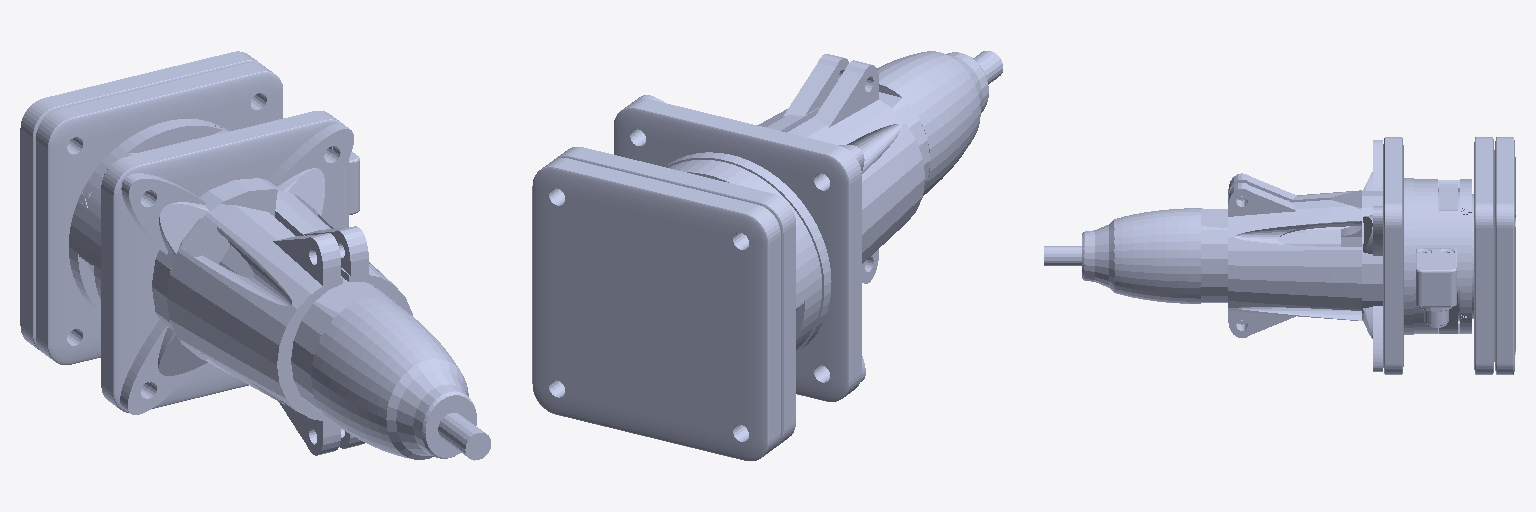
The robot description file, URDF, robot "CompleteToolAssembly":
<robot
  name="CompleteToolAssembly">
  <link
    name="CompleteToolAssembly">
    <inertial>
      <origin
        xyz="0 0 0"
        rpy="0 0 0" />
      <mass
        value="0" />
      <inertia
        ixx="0"
        ixy="0"
        ixz="0"
        iyy="0"
        iyz="0"
        izz="0" />
    </inertial>
    <visual>
      <origin
        xyz="0 0 0"
        rpy="1.5707963267949 0 0" />
      <geometry>
        <mesh
          filename="package://CompleteToolAssembly/meshes/CompleteToolAssembly.STL" />
      </geometry>
      <material
        name="">
        <color
          rgba="0.79216 0.81961 0.93333 1" />
      </material>
    </visual>
    <collision>
      <origin
        xyz="0 0 0"
        rpy="1.5707963267949 0 0" />
      <geometry>
        <mesh
          filename="package://CompleteToolAssembly/meshes/CompleteToolAssembly.STL" />
      </geometry>
    </collision>
  </link>
</robot>

--- Facts derived from the render (not from the file) ---
3 views of the same robot in one strip: view 1: azimuth 30°, elevation 25°; view 2: azimuth 150°, elevation 25°; view 3: azimuth 270°, elevation 25° (orthographic).
Robot: CompleteToolAssembly — 1 links, 0 joints (none); root link CompleteToolAssembly; default pose: every joint at zero.
Visible links, largest first — view 1: CompleteToolAssembly; view 2: CompleteToolAssembly; view 3: CompleteToolAssembly.
Boxes of the visible links, box(x1,y1,x2,y2) form: CompleteToolAssembly: box(20, 51, 490, 460); CompleteToolAssembly: box(532, 51, 1002, 460); CompleteToolAssembly: box(1044, 137, 1515, 374).
Bounding box of the posed robot: 0.1039 × 0.2254 × 0.09 m (x, y, z).
1 mesh visuals loaded from 1 distinct referenced files (1 binary STL).